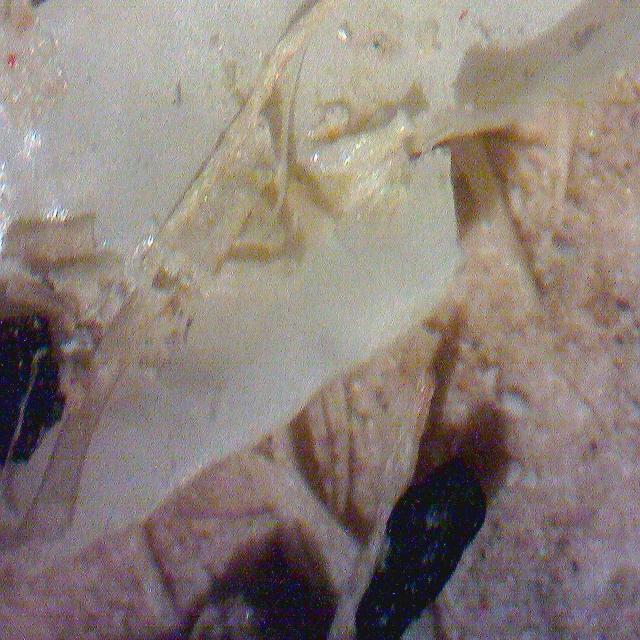microplastic: (0, 120, 521, 604), (0, 0, 310, 267), (277, 0, 640, 173)
